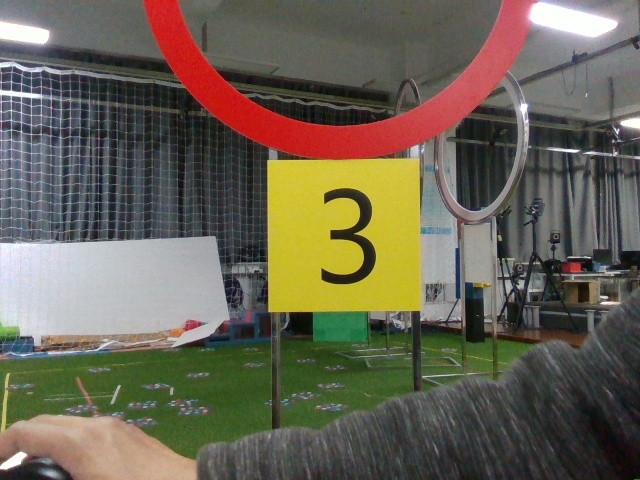target: (272, 166, 415, 316)
